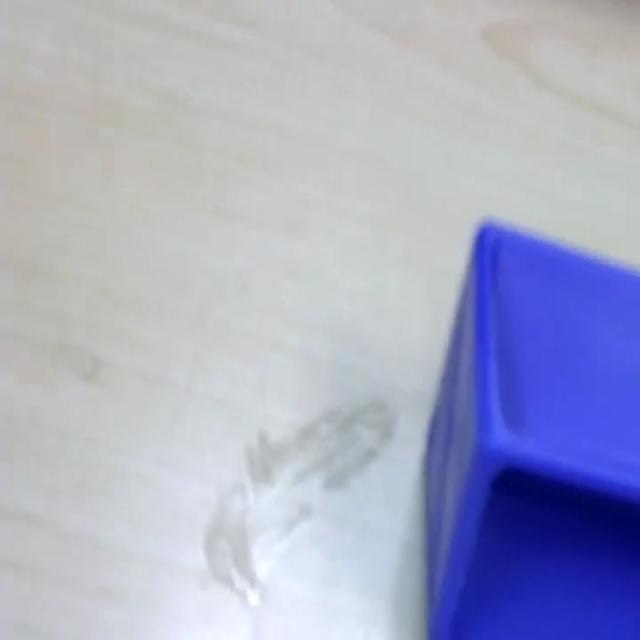blue_block: (422, 213, 638, 638)
